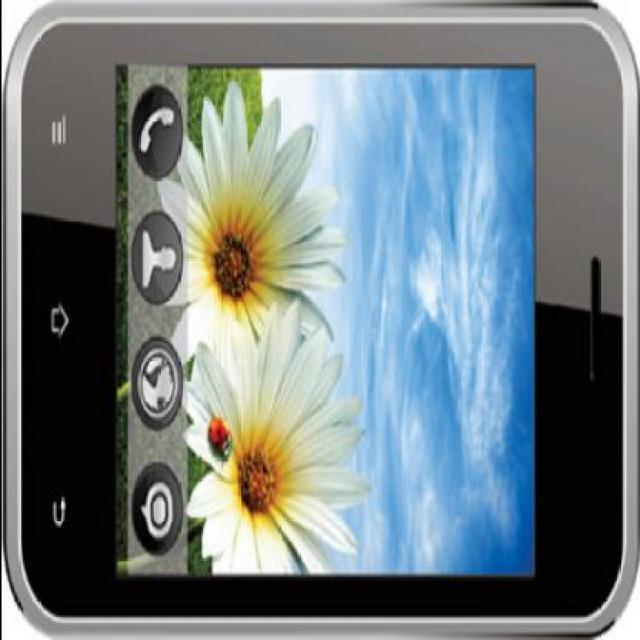phone: (9, 0, 609, 640)
